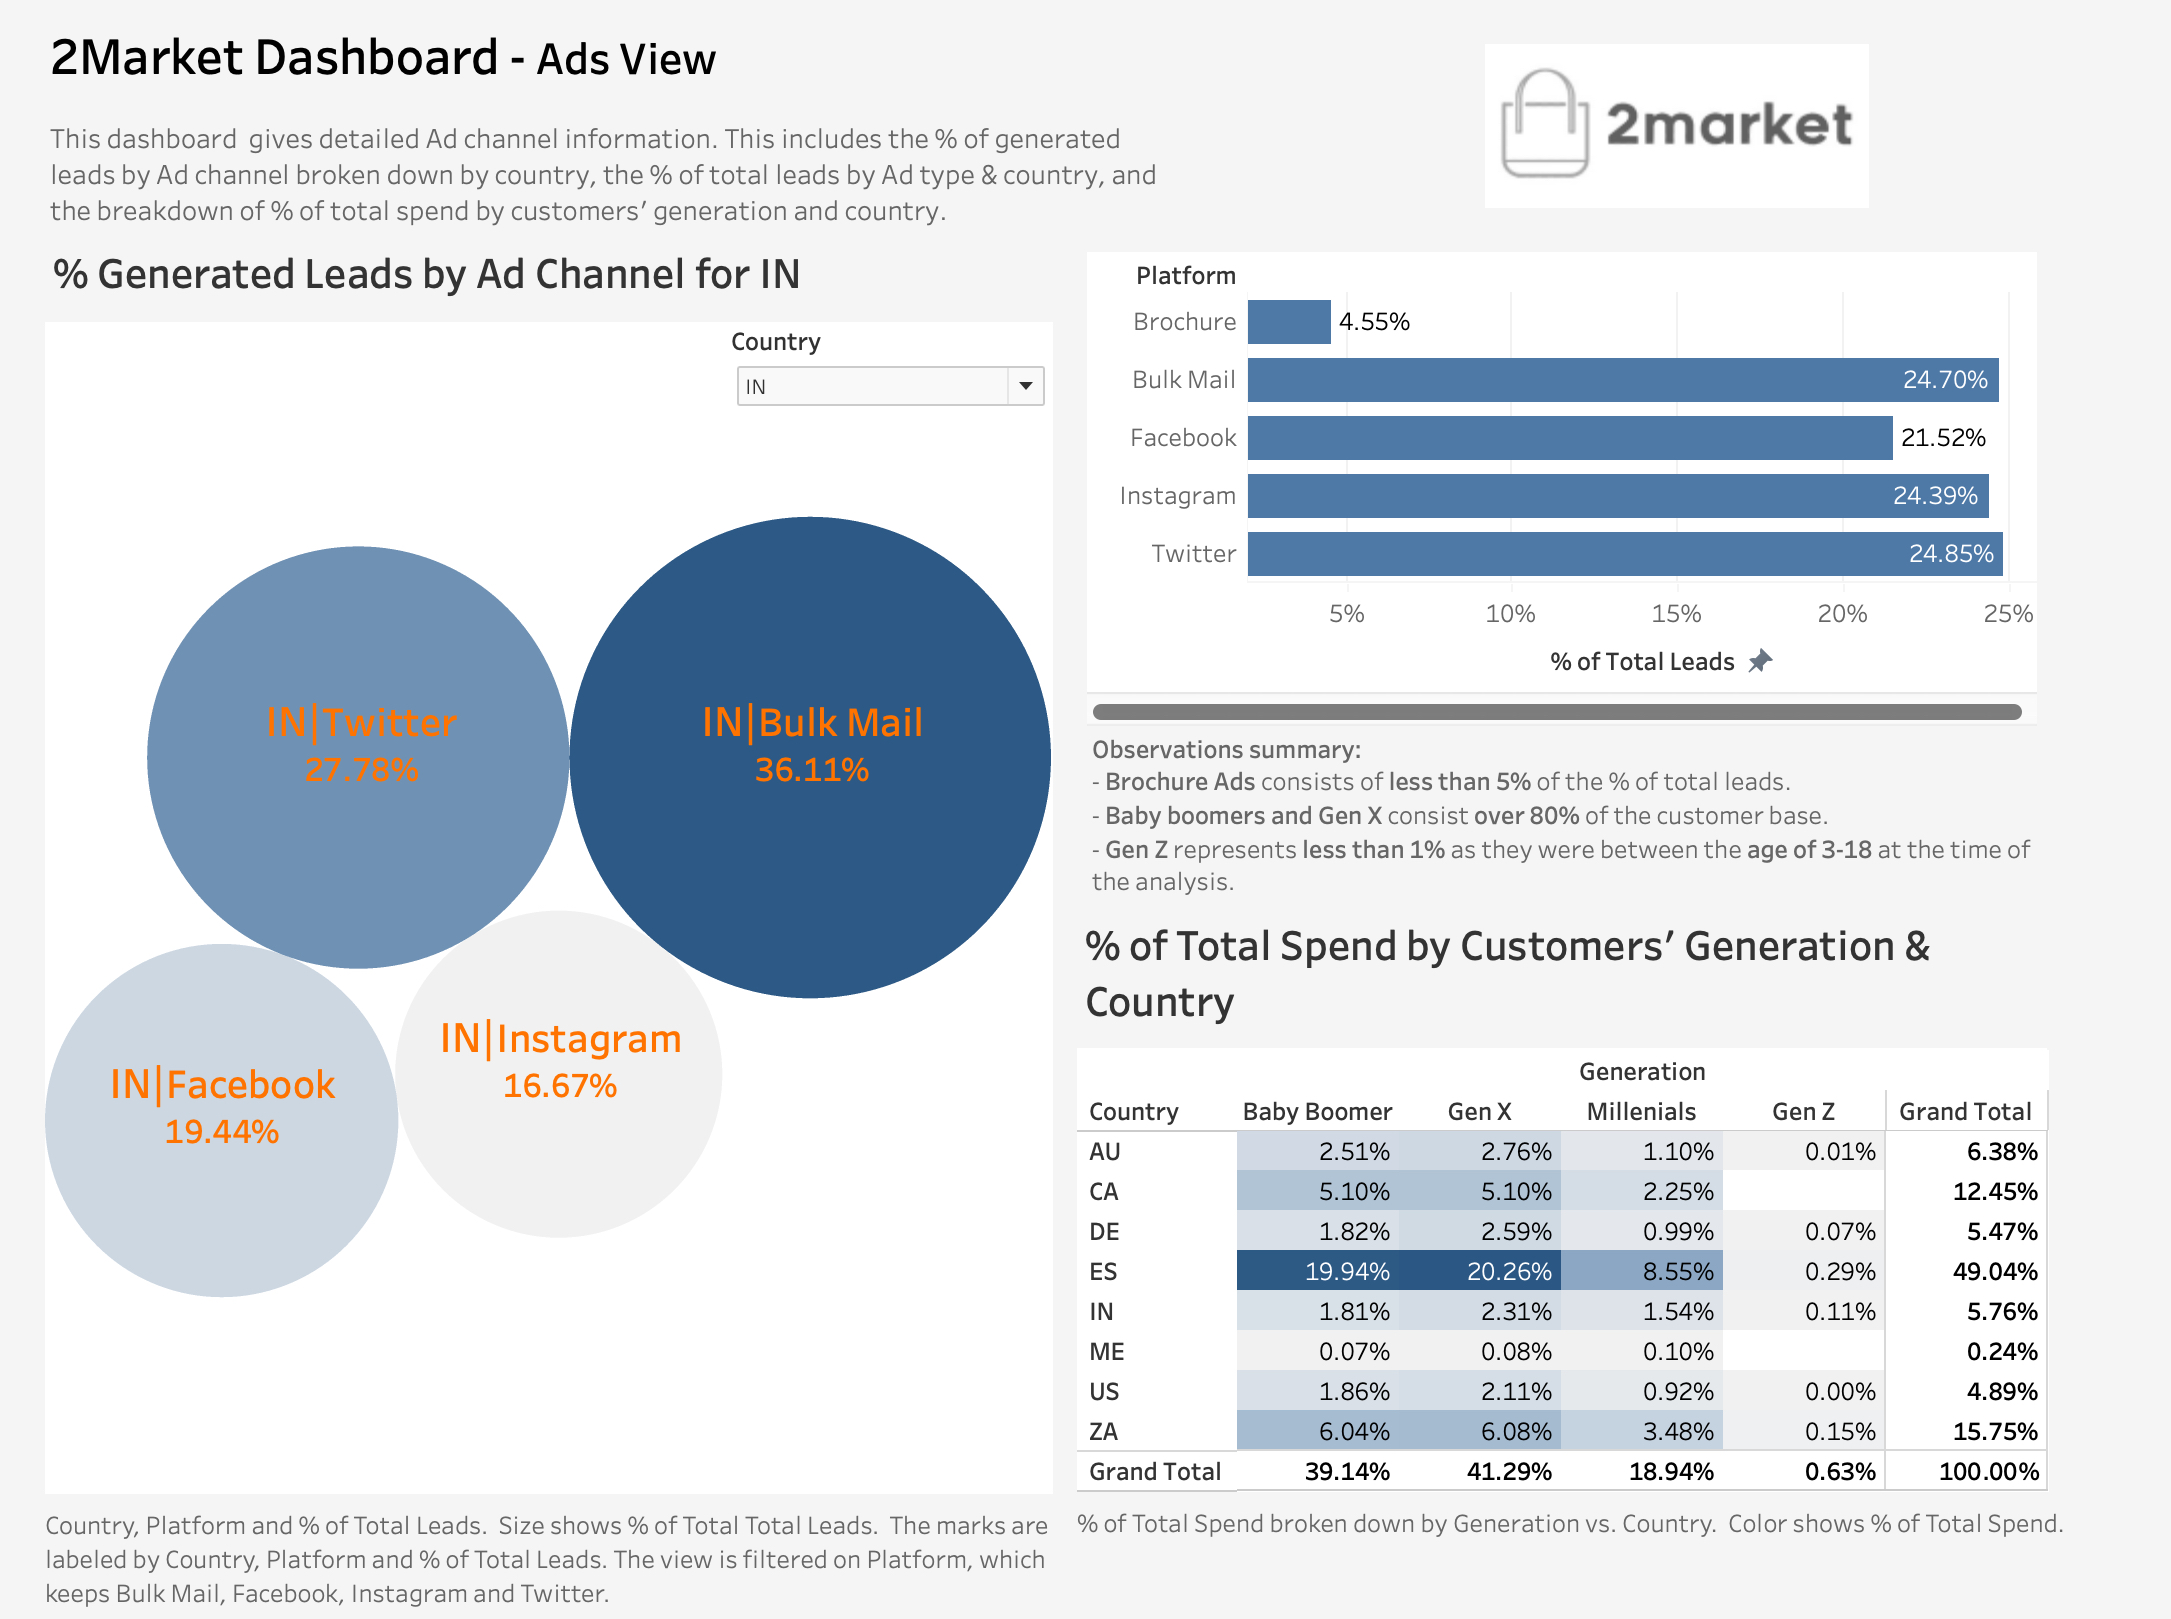

Layout of this report page (visuals, bound fields, positions):
{"tool":"tableau","page":{"name":"Ad View","canvas":[1024,768],"ordinal":0},"visuals":[{"type":"text","box":[0,0,410,44]},{"type":"image","param":"Image/2Market.jpg","box":[720,17,192,91]},{"type":"text","box":[0,48,572,68]},{"type":"worksheet","title":"Ads Channels vs Customer Generation Breakdown (2)","mark":"Automatic","rows":["platform"],"box":[521,106,475,256]},{"type":"filter","title":"Ads Channels vs Customer Generation Breakdown","param":"[federated.0b671u406pt3rf18pvn5i0hm06i7].[none:Country:nk]","box":[343,157,160,51]},{"type":"text","box":[521,355,486,97]},{"type":"worksheet","title":"Market Share vs Generation","mark":"Square","rows":["Country"],"cols":["Generation"],"box":[516,449,513,320]}]}

Visuals, with their boxes in screenshot pixels (x1, y1, x2, y2), scaled from the page's 1024x768 canvas onto the 2171x1619 screenshot:
text: 0/0/869/93
image: 1526/36/1934/228
text: 0/101/1213/245
"Ads Channels vs Customer Generation Breakdown (2)" worksheet: 1105/223/2112/763
"Ads Channels vs Customer Generation Breakdown" filter: 727/331/1066/438
text: 1105/748/2135/953
"Market Share vs Generation" worksheet (Square marks): 1094/947/2170/1618
